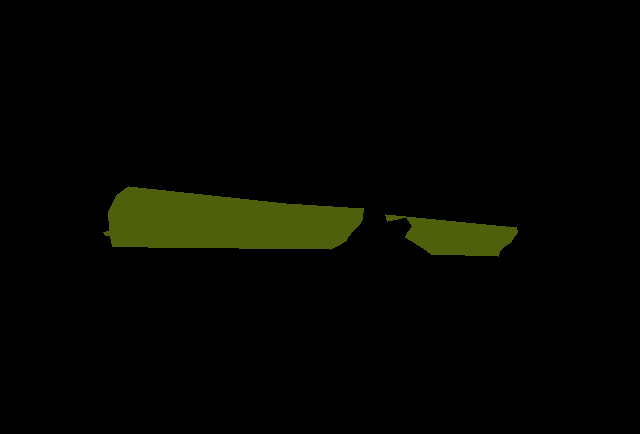Train: (103, 186, 518, 256)
